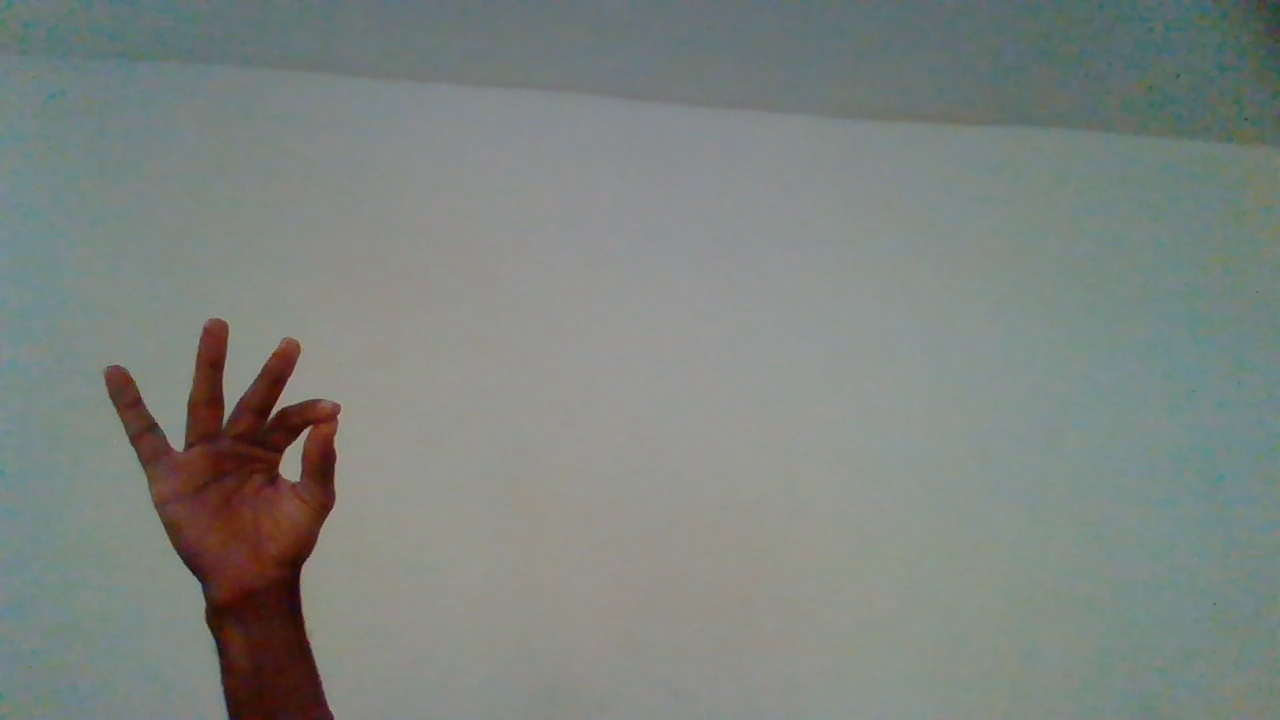le: (95, 321, 340, 697)
